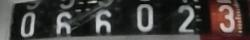digits: (173, 5, 197, 36), (93, 9, 115, 38), (53, 11, 75, 40), (136, 3, 154, 31), (218, 4, 234, 32), (20, 11, 35, 36)
